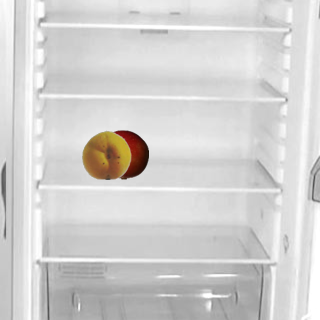Apple Braeburn: (98, 129, 148, 179)
Peach 2: (81, 129, 131, 179)
